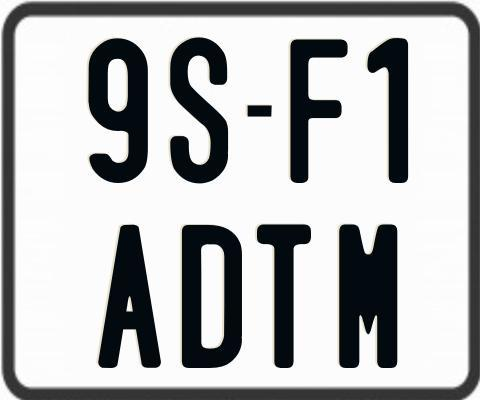1: (365, 37, 411, 183)
9: (85, 38, 150, 187)
A: (98, 225, 162, 369)
D: (179, 224, 239, 372)
F: (288, 37, 351, 182)
M: (336, 221, 400, 369)
S: (169, 36, 227, 187)
T: (257, 222, 314, 366)
